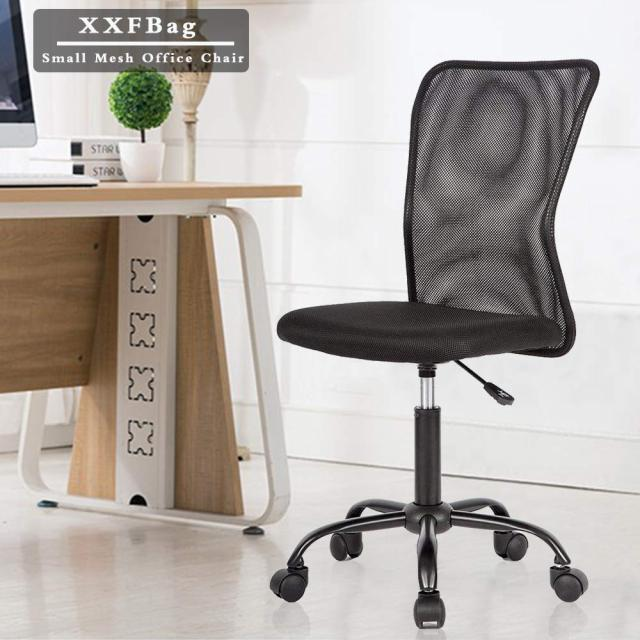chair: (272, 58, 597, 626)
